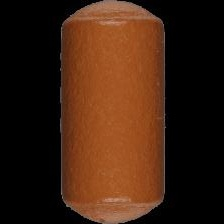50458-554: (0, 0, 224, 224)
